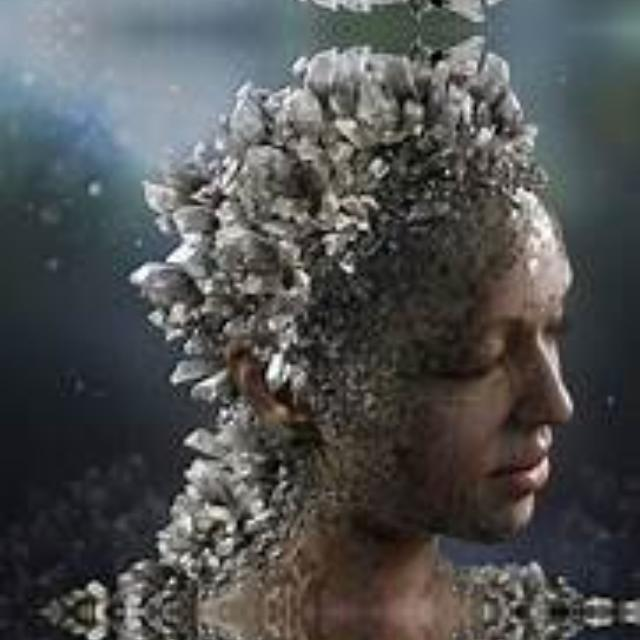person: (148, 76, 588, 610), (148, 613, 587, 640)
